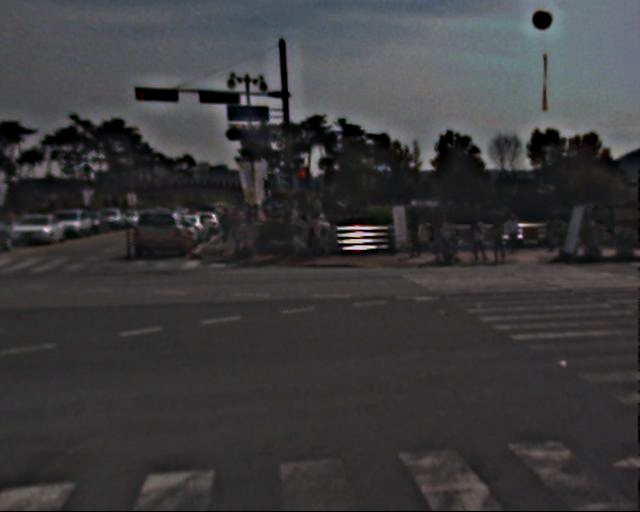person: (415, 211, 527, 266), (220, 204, 263, 236), (310, 208, 333, 263), (284, 207, 306, 260)
